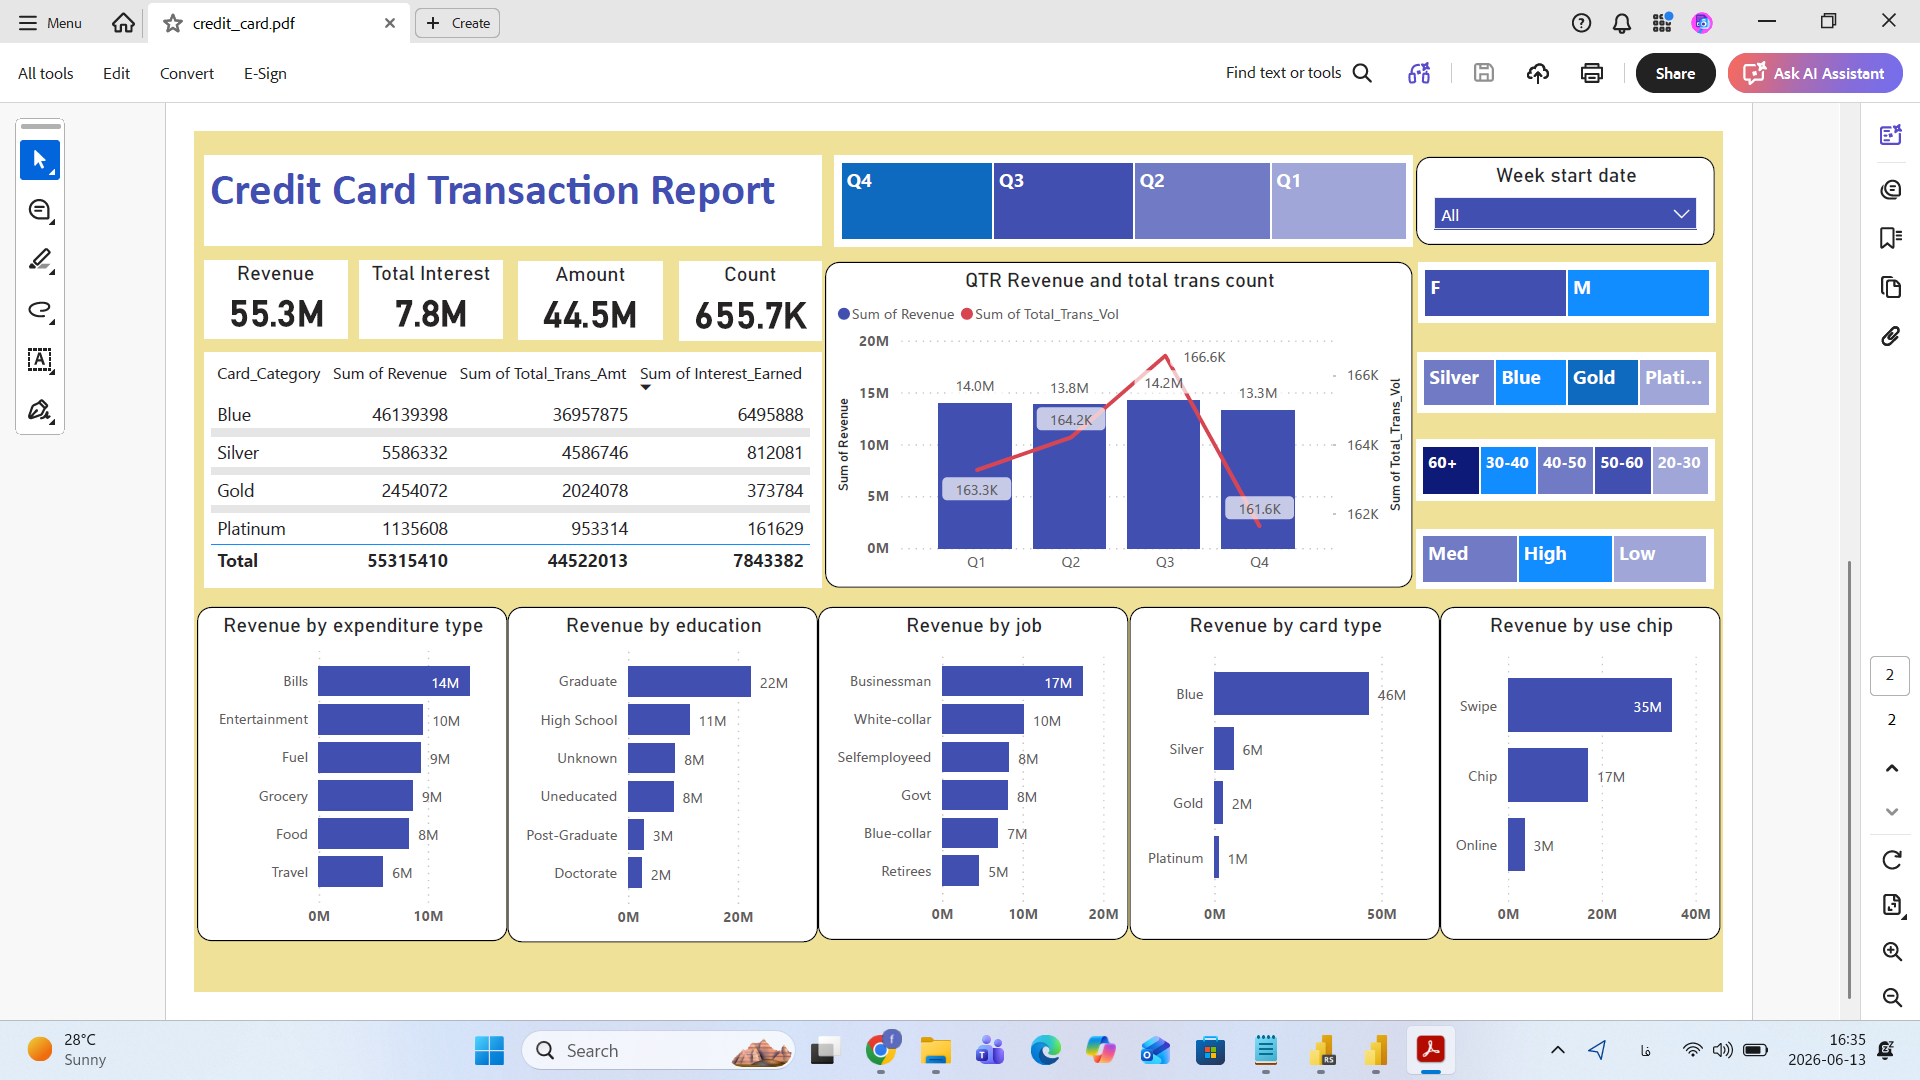

The dashboard page shown, as its layout file describes it:
{"tool":"powerbi","page":{"name":"CC Transaction","canvas":[1280,720],"ordinal":1},"visuals":[{"type":"textbox","box":[7.8,20,517.5,75],"z":0},{"type":"lineStackedColumnComboChart","title":"QTR Revenue and total trans count","fields":{"Category":["credit_card (4).Qtr"],"Y":["Sum(credit_card (4).Revenue)"],"Y2":["Sum(credit_card (4).Total_Trans_Vol)"]},"box":[527.7,109.1,491.8,273.4],"z":1000},{"type":"barChart","title":"Revenue by expenditure type","fields":{"Y":["Sum(credit_card (4).Revenue)"],"Category":["credit_card (4).Exp Type"]},"box":[2.4,398.3,260,280],"z":2000},{"type":"barChart","title":"Revenue by education","fields":{"Y":["Sum(credit_card (4).Revenue)"],"Category":["customer.Education_Level"]},"box":[261.9,398,260,280.7],"z":3000},{"type":"barChart","title":"Revenue by job","fields":{"Y":["Sum(credit_card (4).Revenue)"],"Category":["customer.Customer_Job"]},"box":[521.9,398,260,279.5],"z":4000},{"type":"barChart","title":"Revenue by card type","fields":{"Y":["Sum(credit_card (4).Revenue)"],"Category":["credit_card (4).Card_Category"]},"box":[783.1,398,260,279.5],"z":5000},{"type":"barChart","title":"Revenue by use chip","fields":{"Y":["Sum(credit_card (4).Revenue)"],"Category":["credit_card (4).Use Chip"]},"box":[1043,398,235,279.5],"z":6000},{"type":"tableEx","fields":{"Values":["credit_card (4).Card_Category","Sum(credit_card (4).Revenue)","Sum(credit_card (4).Total_Trans_Amt)","Sum(credit_card (4).Interest_Earned)"]},"box":[7.8,184.8,517.5,197.7],"z":7000},{"type":"card","title":"Revenue","fields":{"Values":["Sum(credit_card (4).Revenue)"]},"box":[7.7,107.6,120,65],"z":8000},{"type":"card","title":"Amount","fields":{"Values":["Sum(credit_card (4).Total_Trans_Amt)"]},"box":[271.4,109.1,120.8,64.7],"z":9000},{"type":"card","title":"Total Interest","fields":{"Values":["Sum(credit_card (4).Interest_Earned)"]},"box":[138.4,107.9,119.6,64.7],"z":10000},{"type":"card","title":"Count","fields":{"Values":["Sum(credit_card (4).Total_Trans_Vol)"]},"box":[405.7,109.1,119.6,65.9],"z":11000},{"type":"slicer","title":"Week start date","fields":{"Values":["credit_card (4).date_format_week_start_date"]},"box":[1022.9,20.5,250.2,74.4],"z":12000},{"type":"treemap","fields":{"Group":["credit_card (4).Qtr"],"Values":["Avg(credit_card (4).Client_Num)"]},"box":[536.3,20,483.3,75.7],"z":13000},{"type":"treemap","fields":{"Group":["customer.Gender"],"Values":["Avg(credit_card (4).Client_Num)"]},"box":[1025.4,109.6,249,50],"z":14000},{"type":"treemap","fields":{"Group":["credit_card (4).Card_Category"],"Values":["Avg(credit_card (4).Client_Num)"]},"box":[1024.1,185.3,250.2,50],"z":15000},{"type":"treemap","fields":{"Group":["customer.Incomegroup"],"Values":["Avg(credit_card (4).Client_Num)"]},"box":[1022.9,258.5,250.2,50],"z":16000},{"type":"treemap","fields":{"Group":["customer.income_group"],"Values":["Avg(credit_card (4).Client_Num)"]},"box":[1022.9,332.9,249,50],"z":17000}]}

Visuals, with their boxes on the page's 1280x720 design canvas (x1, y1, x2, y2). These are canvas units, not pixel positions in the 1920x1080 screenshot, which may show the page scaled, cropped or inside an application window:
textbox: [left=8, top=20, right=525, bottom=95]
"QTR Revenue and total trans count" lineStackedColumnComboChart: [left=528, top=109, right=1020, bottom=382]
"Revenue by expenditure type" barChart: [left=2, top=398, right=262, bottom=678]
"Revenue by education" barChart: [left=262, top=398, right=522, bottom=679]
"Revenue by job" barChart: [left=522, top=398, right=782, bottom=678]
"Revenue by card type" barChart: [left=783, top=398, right=1043, bottom=678]
"Revenue by use chip" barChart: [left=1043, top=398, right=1278, bottom=678]
tableEx - credit_card (4).Card_Category x Sum(credit_card (4).Revenue): [left=8, top=185, right=525, bottom=382]
"Revenue" card: [left=8, top=108, right=128, bottom=173]
"Amount" card: [left=271, top=109, right=392, bottom=174]
"Total Interest" card: [left=138, top=108, right=258, bottom=173]
"Count" card: [left=406, top=109, right=525, bottom=175]
"Week start date" slicer: [left=1023, top=20, right=1273, bottom=95]
treemap - credit_card (4).Qtr x Avg(credit_card (4).Client_Num): [left=536, top=20, right=1020, bottom=96]
treemap - customer.Gender x Avg(credit_card (4).Client_Num): [left=1025, top=110, right=1274, bottom=160]
treemap - credit_card (4).Card_Category x Avg(credit_card (4).Client_Num): [left=1024, top=185, right=1274, bottom=235]
treemap - customer.Incomegroup x Avg(credit_card (4).Client_Num): [left=1023, top=258, right=1273, bottom=308]
treemap - customer.income_group x Avg(credit_card (4).Client_Num): [left=1023, top=333, right=1272, bottom=383]
